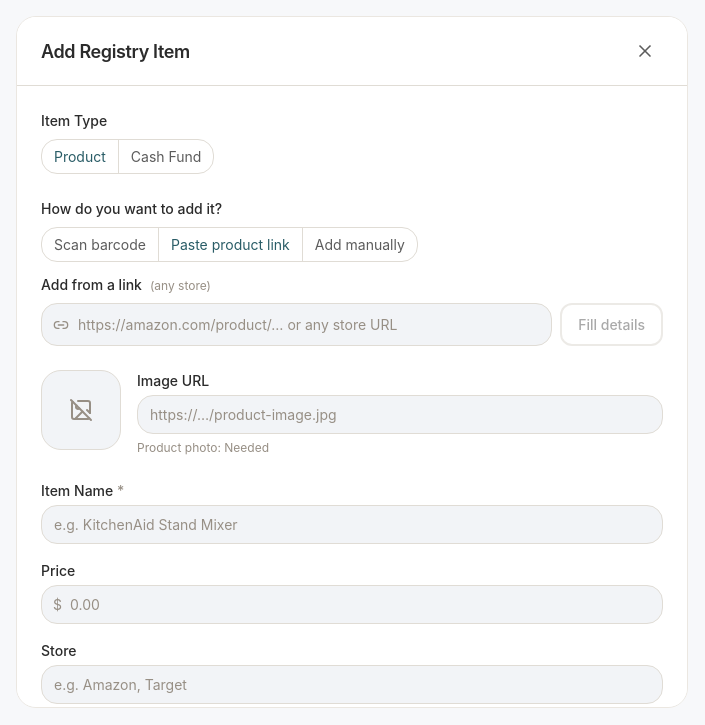
Test case: RegistryItemForm › looks up a barcode and fills the product details
Click the button "Scan barcode" at (100, 245), box x1=42 y1=228 x2=158 y2=261
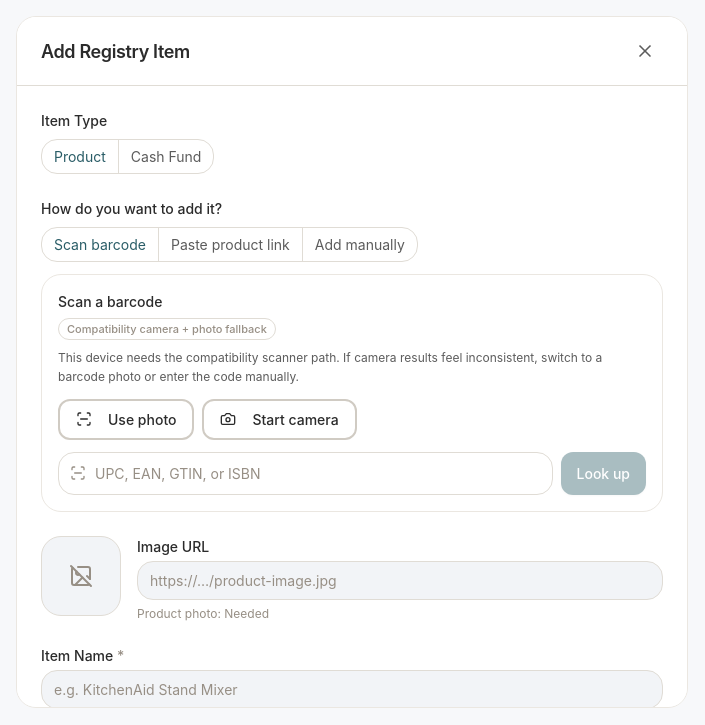
Type "036000291452" into the field with placeholder "UPC, EAN, GTIN, or ISBN" at (305, 473), box x1=58 y1=452 x2=552 y2=495
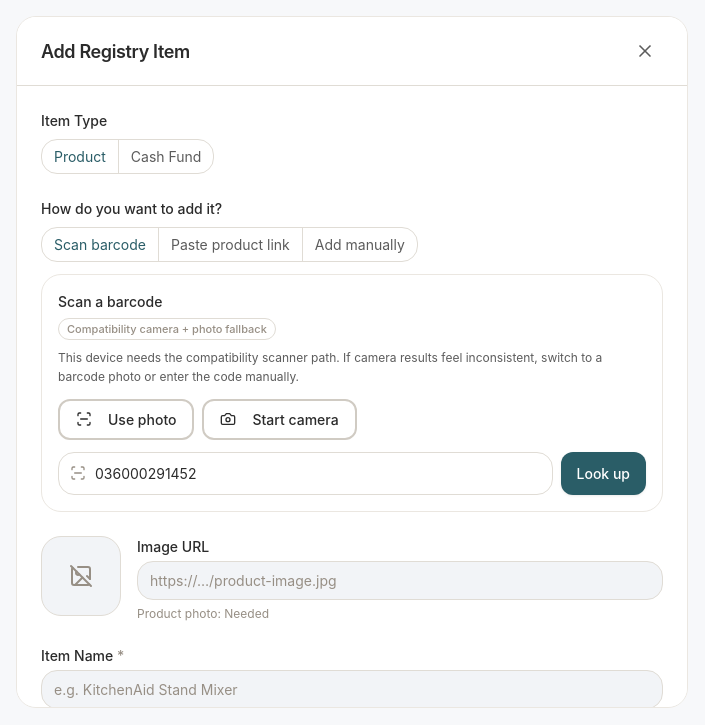
Click the button "Look up" at (603, 473), box x1=560 y1=452 x2=646 y2=495
(page scrolled)
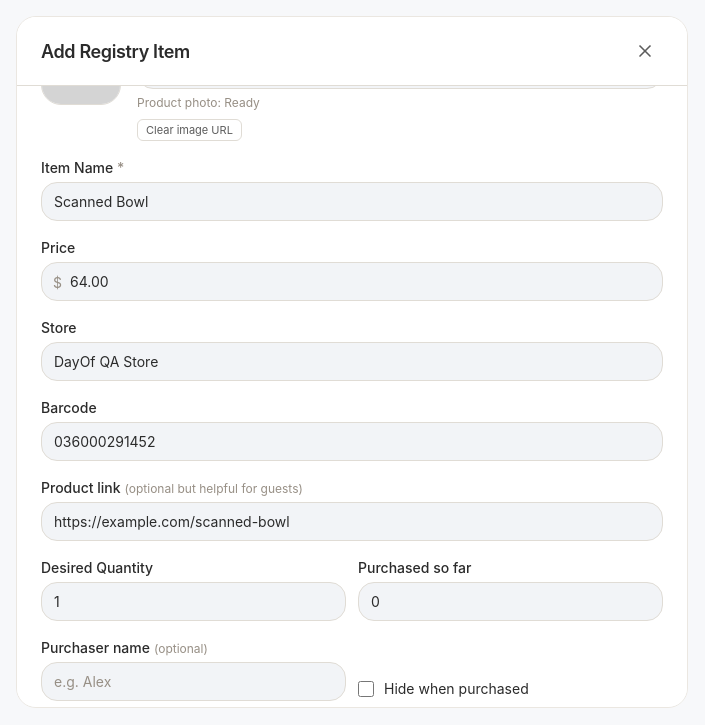
Expected: the field showing "Scanned Bowl" below "Item Name" is shown, x1=41 y1=182 x2=663 y2=221
Expected: the number field showing "64.00" is shown, x1=41 y1=262 x2=663 y2=301
Expected: the field showing "DayOf QA Store" below "Store" is shown, x1=41 y1=342 x2=663 y2=381
